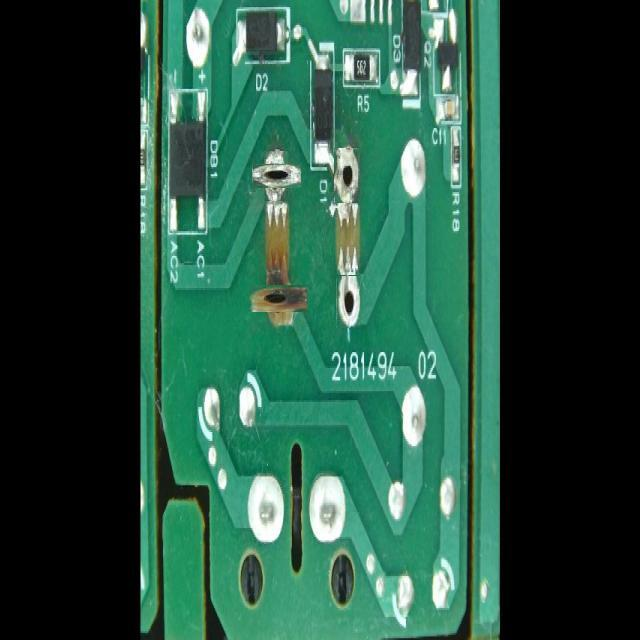damged: (256, 277, 299, 320), (334, 148, 360, 203), (257, 158, 295, 195), (336, 275, 360, 328)
